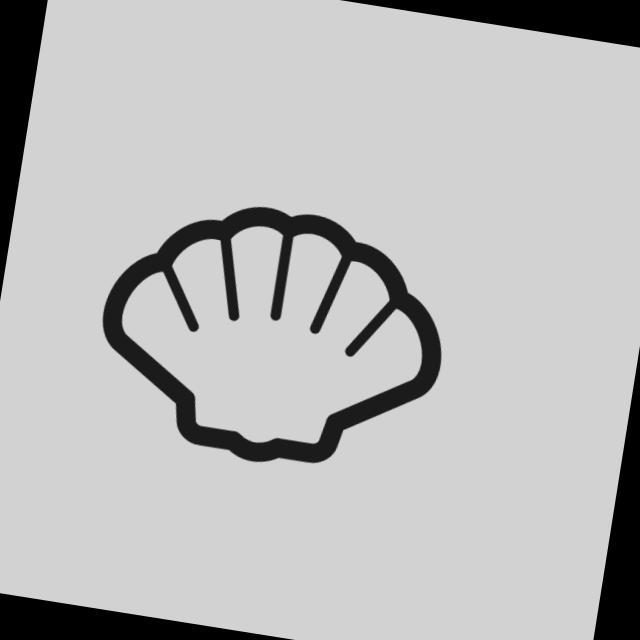shell: (79, 176, 471, 496)
